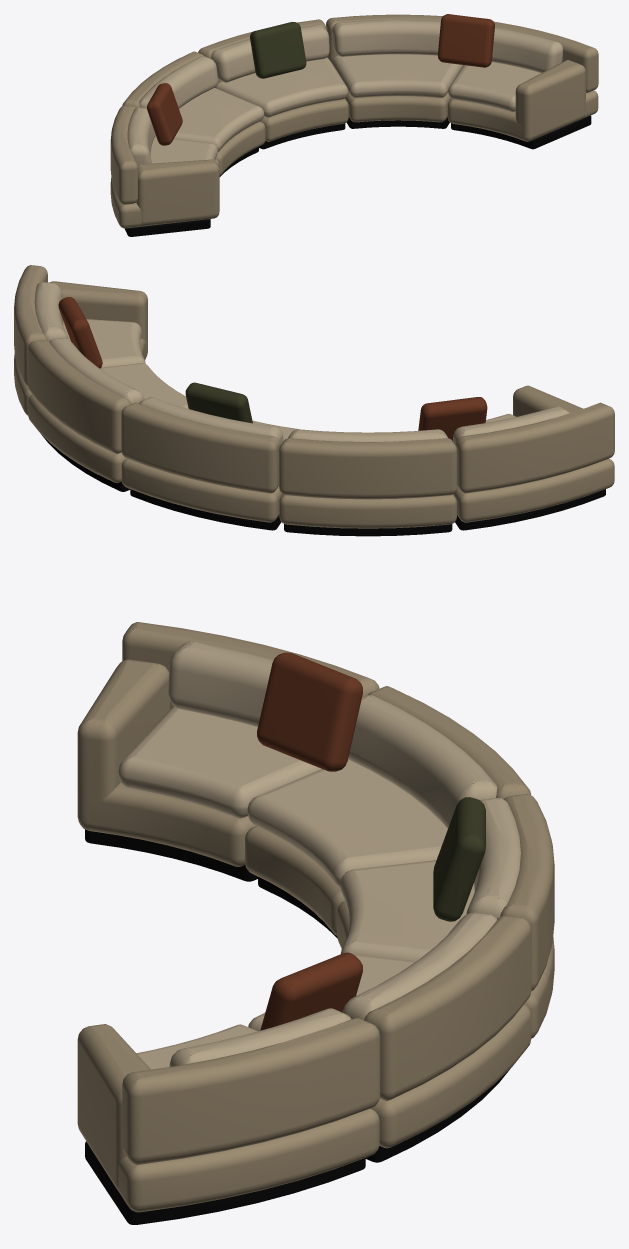
The model's file is curved-sectional-lod0.glb.
3 renders of one model, top to bottom at view 1: azimuth 30°, elevation 25°; view 2: azimuth 150°, elevation 25°; view 3: azimuth 270°, elevation 25°, orthographic. The views are drawn at different scales.
Parts seen in each view (by area): view 1: Oatmeal performance fabric, Oatmeal upholstered base, Terracotta accent pillow, Shadow plinth, Olive accent pillow; view 2: Oatmeal upholstered base, Oatmeal performance fabric, Shadow plinth, Terracotta accent pillow, Olive accent pillow; view 3: Oatmeal upholstered base, Oatmeal performance fabric, Terracotta accent pillow, Shadow plinth, Olive accent pillow.
Part boxes in pixels (x1,y1,x2,y2): Oatmeal performance fabric: (127,19,562,164); Oatmeal upholstered base: (110,14,598,228); Terracotta accent pillow: (147,14,494,145); Shadow plinth: (125,115,591,236); Olive accent pillow: (250,22,306,78); Oatmeal upholstered base: (14,265,614,528); Oatmeal performance fabric: (34,282,569,445); Shadow plinth: (41,434,605,536); Terracotta accent pillow: (58,297,487,440); Olive accent pillow: (185,382,252,423); Oatmeal upholstered base: (77,622,554,1212); Oatmeal performance fabric: (118,641,520,1069); Terracotta accent pillow: (257,652,362,1030); Shadow plinth: (85,829,509,1224); Olive accent pillow: (433,797,485,921).
Size of the model in its own units: 4.61 by 0.8431 by 1.99.
